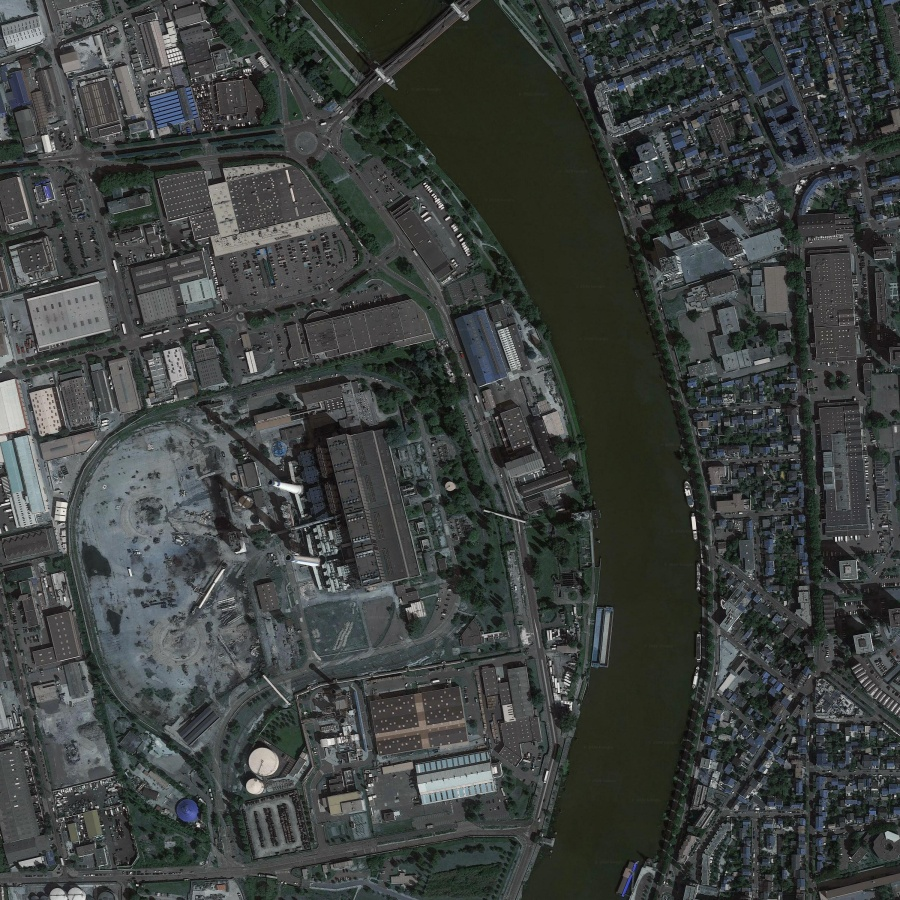PowerPlant: (196, 394, 401, 794)
